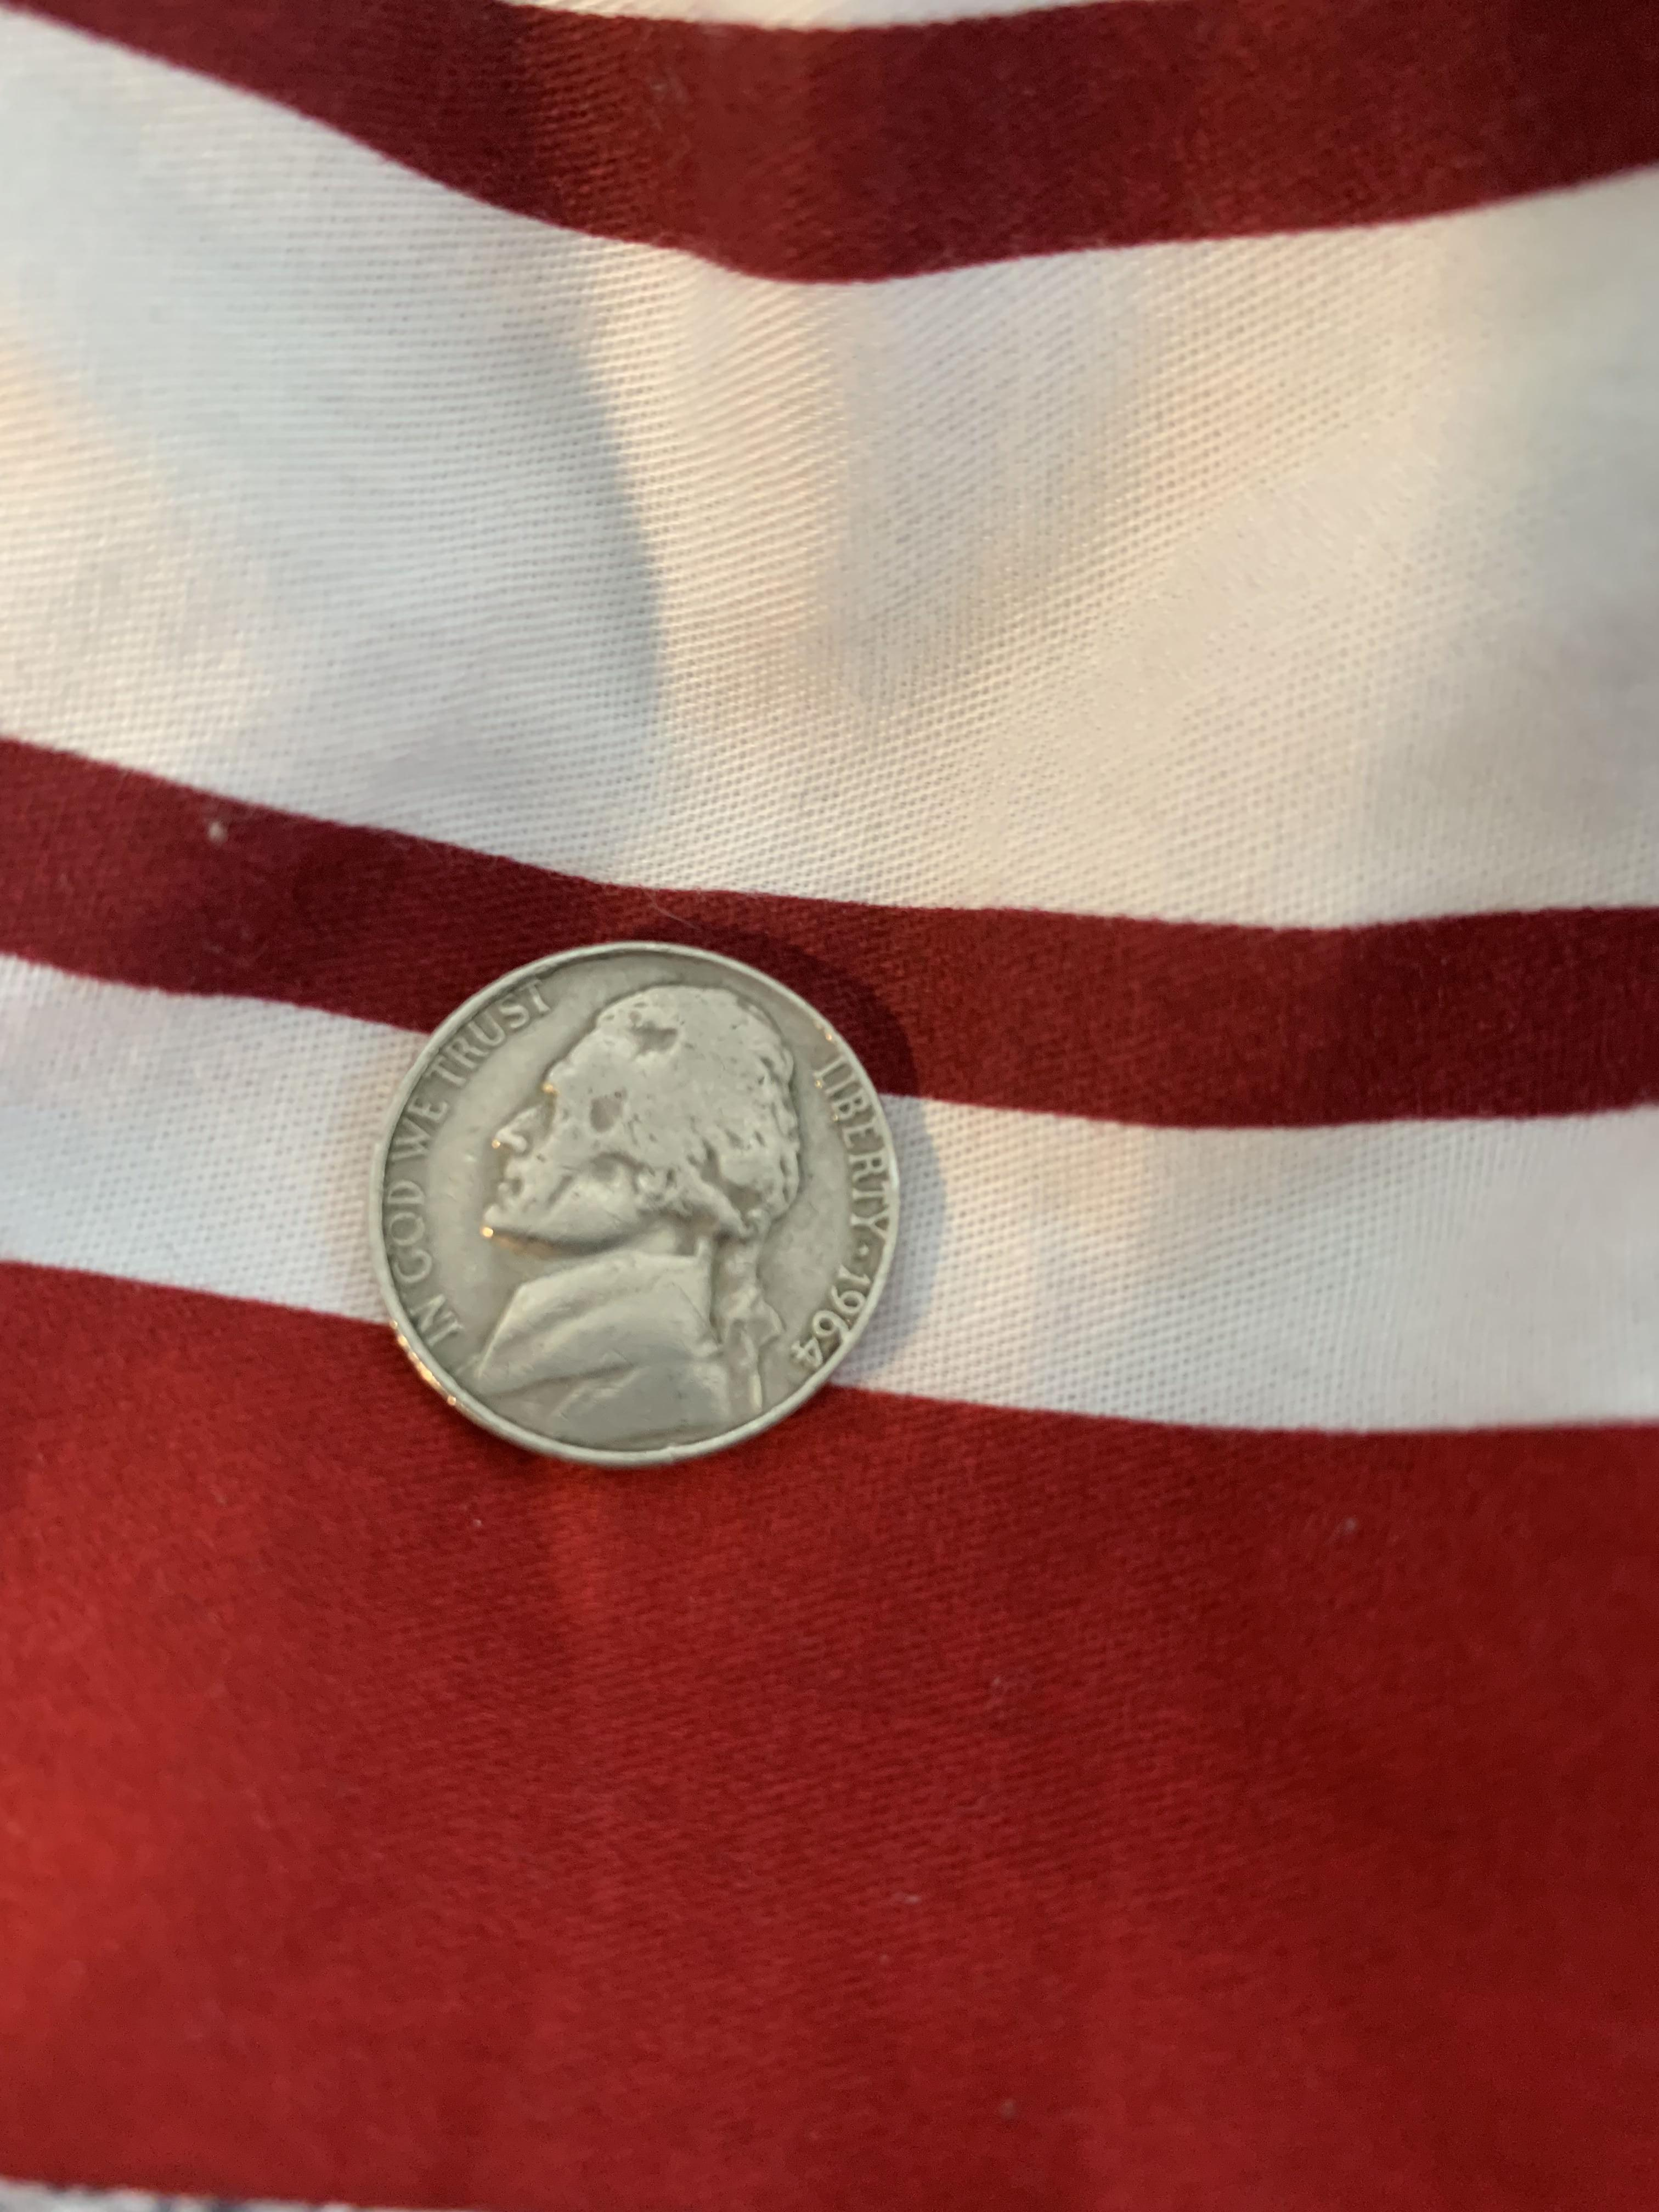Nickel: (354, 921, 922, 1482)
